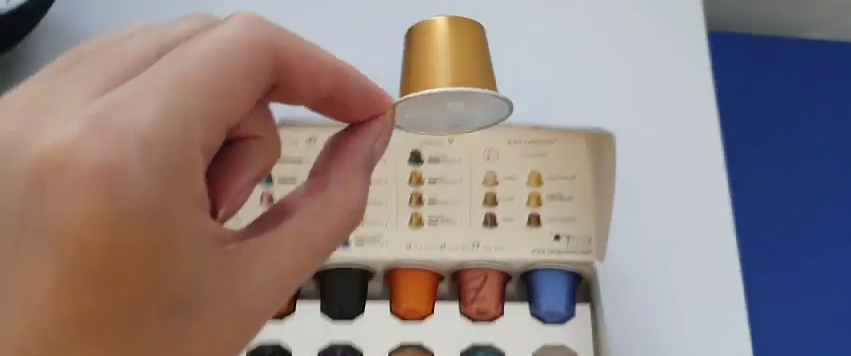capsule_8: (387, 15, 515, 136)
